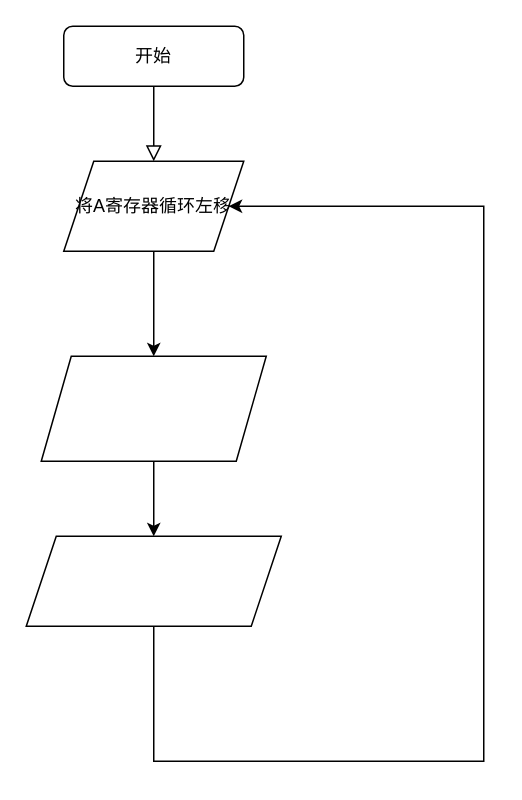
The diagram is 522 pixels wide and 800 high, and some of its shapes have lost their labels. The shapes that lost their labels are listed below. From the top down, each one's box as (x1, y1, x2, y2) in pixels, then its label:
(40, 355, 266, 461): 将A寄存器数值通过串口发送给移位寄存器
(25, 535, 281, 626): 等待发送完毕
